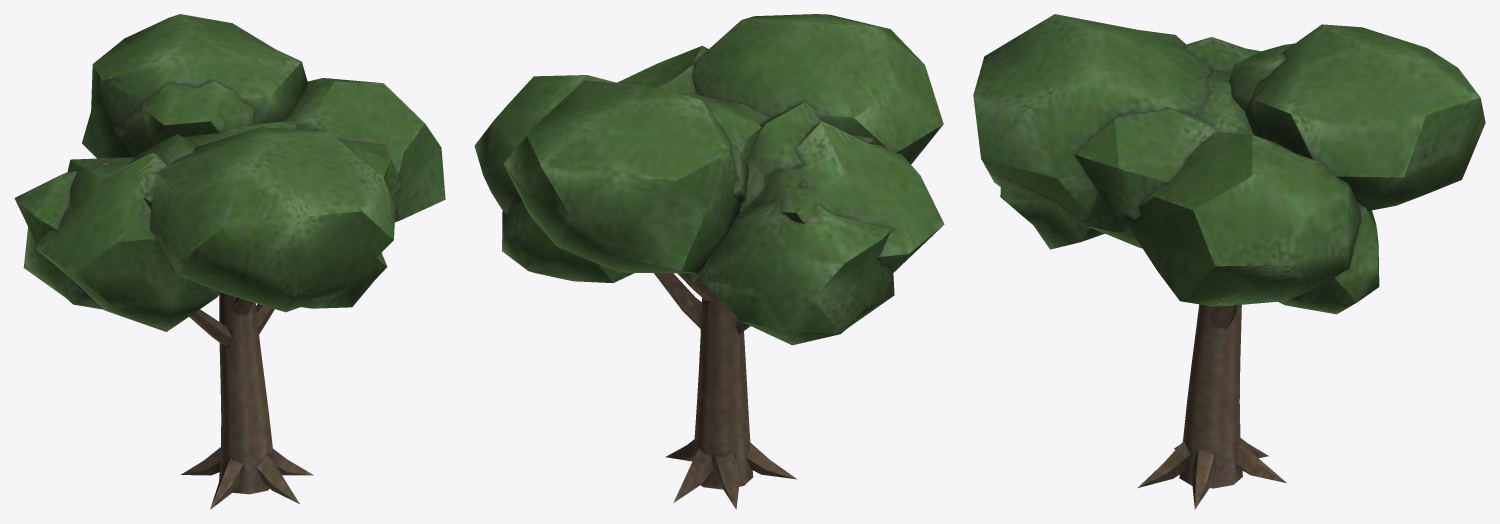
File: carvalho.glb
3 views of the same model, side by side, from view 1: azimuth 30°, elevation 25°; view 2: azimuth 150°, elevation 25°; view 3: azimuth 270°, elevation 25° (orthographic). The views are drawn at different scales.
Parts seen in each view (by area): view 1: carvalho; view 2: carvalho; view 3: carvalho.
Boxes of the visible parts, left/top/right/bottom form: carvalho: left=14, top=14, right=445, bottom=509; carvalho: left=474, top=14, right=944, bottom=509; carvalho: left=973, top=14, right=1485, bottom=509.
Size of the model in its own units: 5.2 by 5.08 by 5.37.
Materials: 1 (1 with a texture image).
